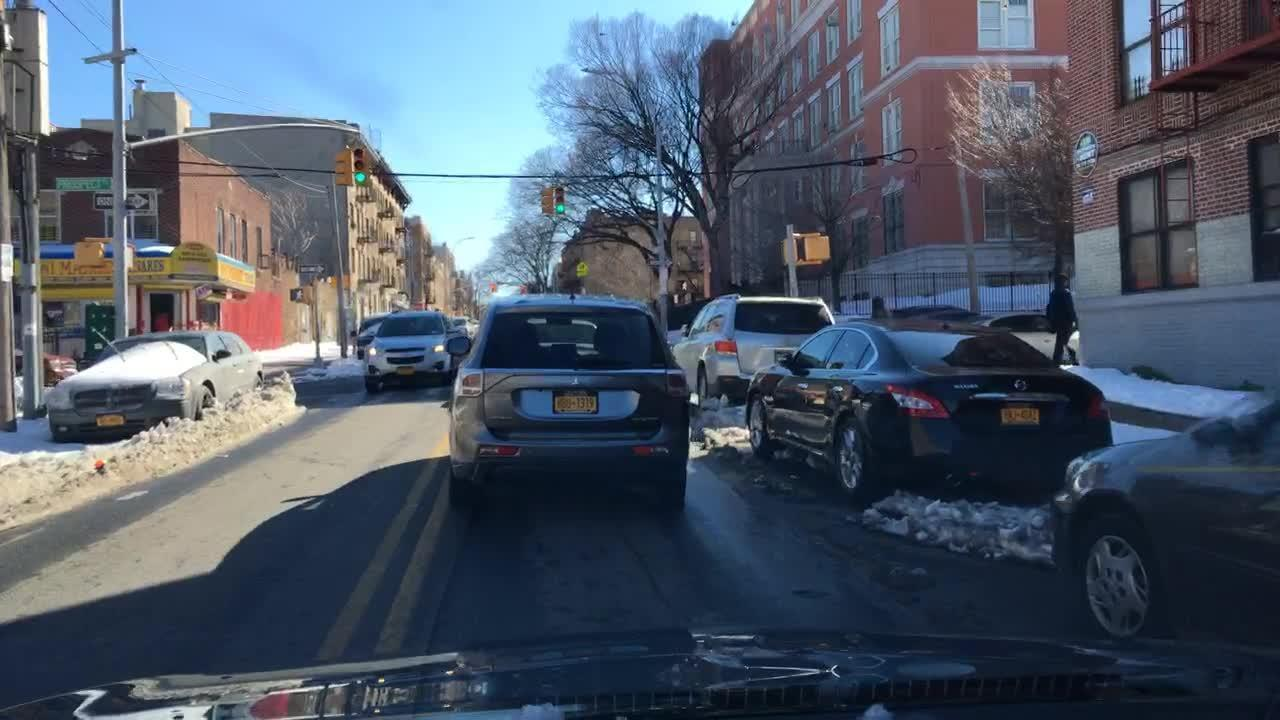Mitsubishi: (563, 371, 588, 394)
Nissan: (1004, 374, 1038, 396)
